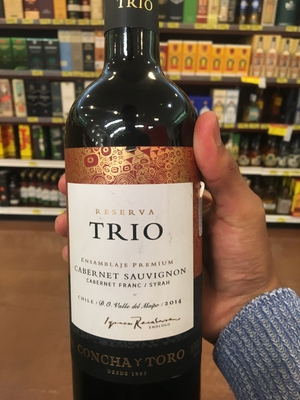trio cabernet sauvignon: (61, 14, 208, 400)
